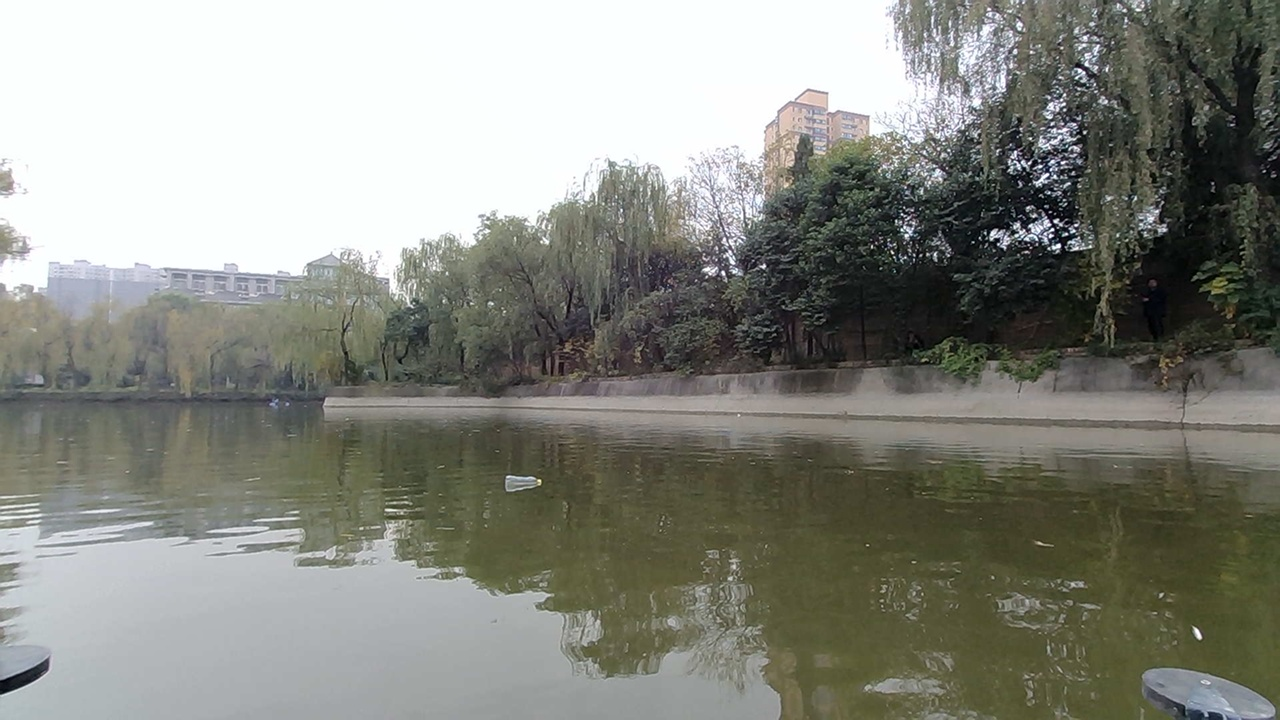bottle: (496, 457, 557, 500)
